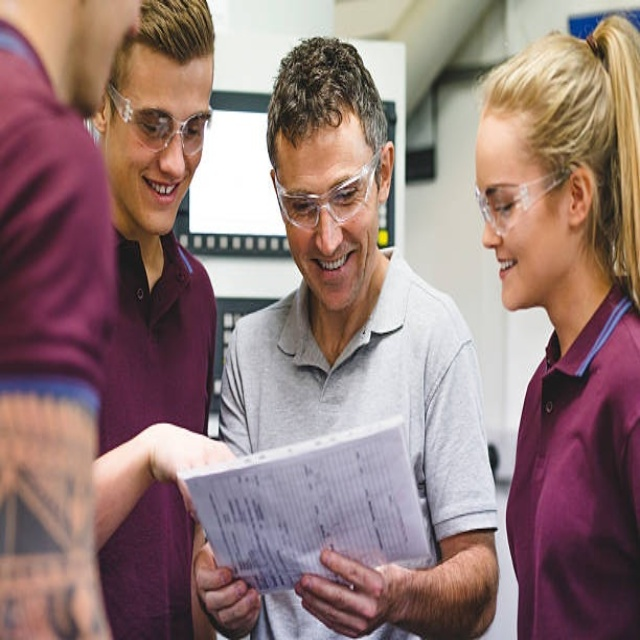Gafas: (273, 149, 382, 229), (109, 83, 214, 156), (473, 170, 569, 235)
Sin_guantes: (132, 422, 242, 531), (295, 549, 393, 640), (194, 533, 261, 639)
Sin_mascara: (302, 243, 373, 295), (131, 169, 191, 229), (490, 240, 541, 304)
